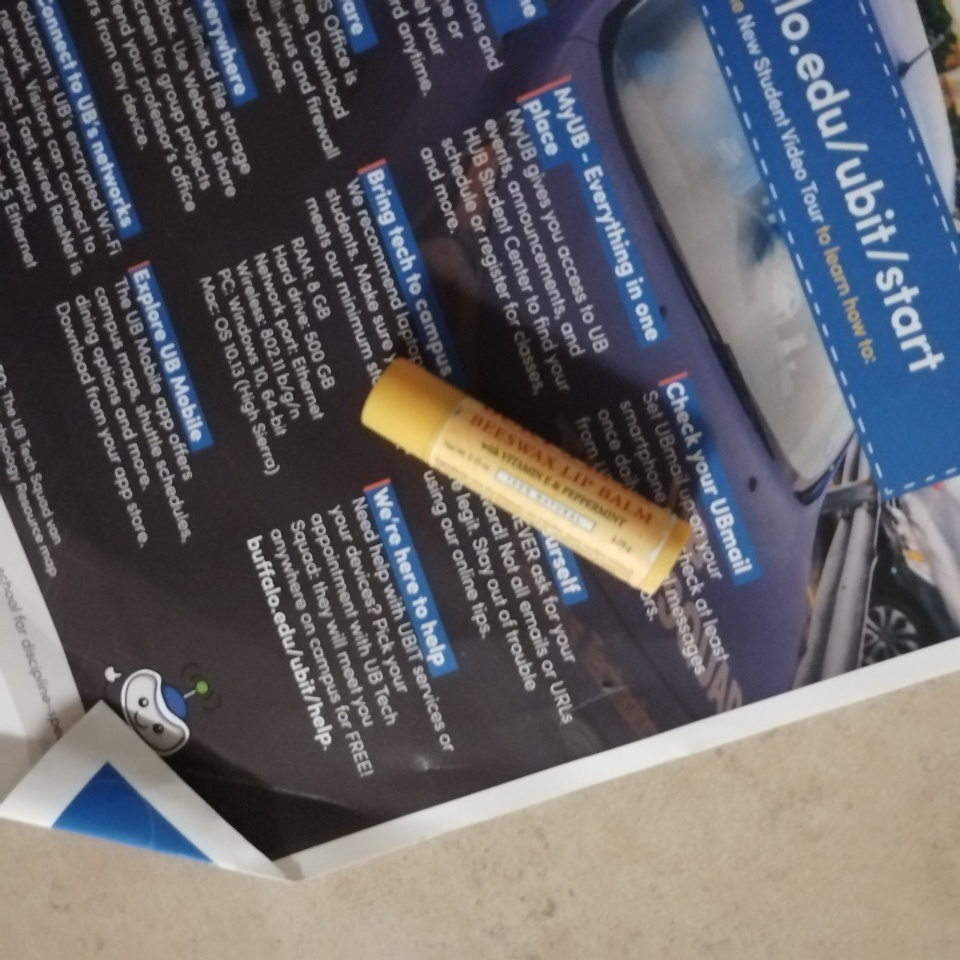chapstick: (359, 354, 696, 599)
